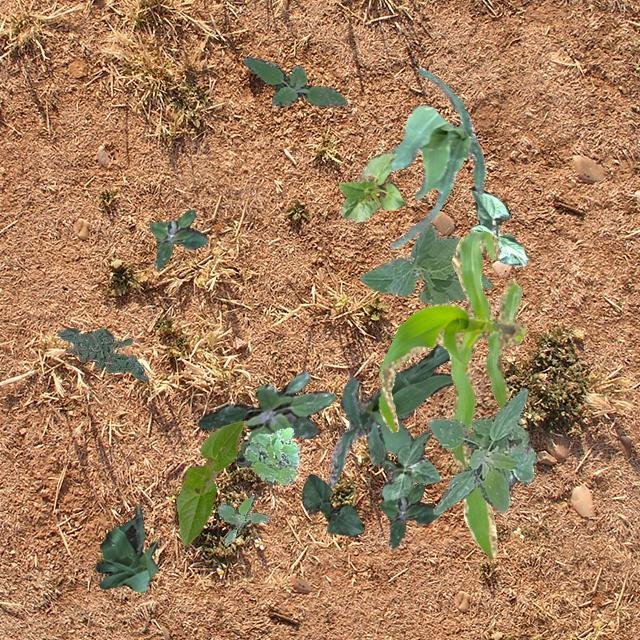crop: (378, 230, 524, 558), (328, 342, 452, 487), (388, 66, 486, 246), (428, 386, 536, 514), (359, 224, 492, 304), (176, 421, 242, 544), (366, 420, 440, 500), (96, 502, 158, 592), (338, 150, 407, 222), (470, 186, 528, 266), (302, 472, 364, 536)
weed: (198, 370, 334, 466), (244, 56, 346, 106), (56, 326, 146, 379), (378, 482, 438, 548), (148, 208, 206, 268), (242, 426, 300, 484), (216, 494, 268, 544)
